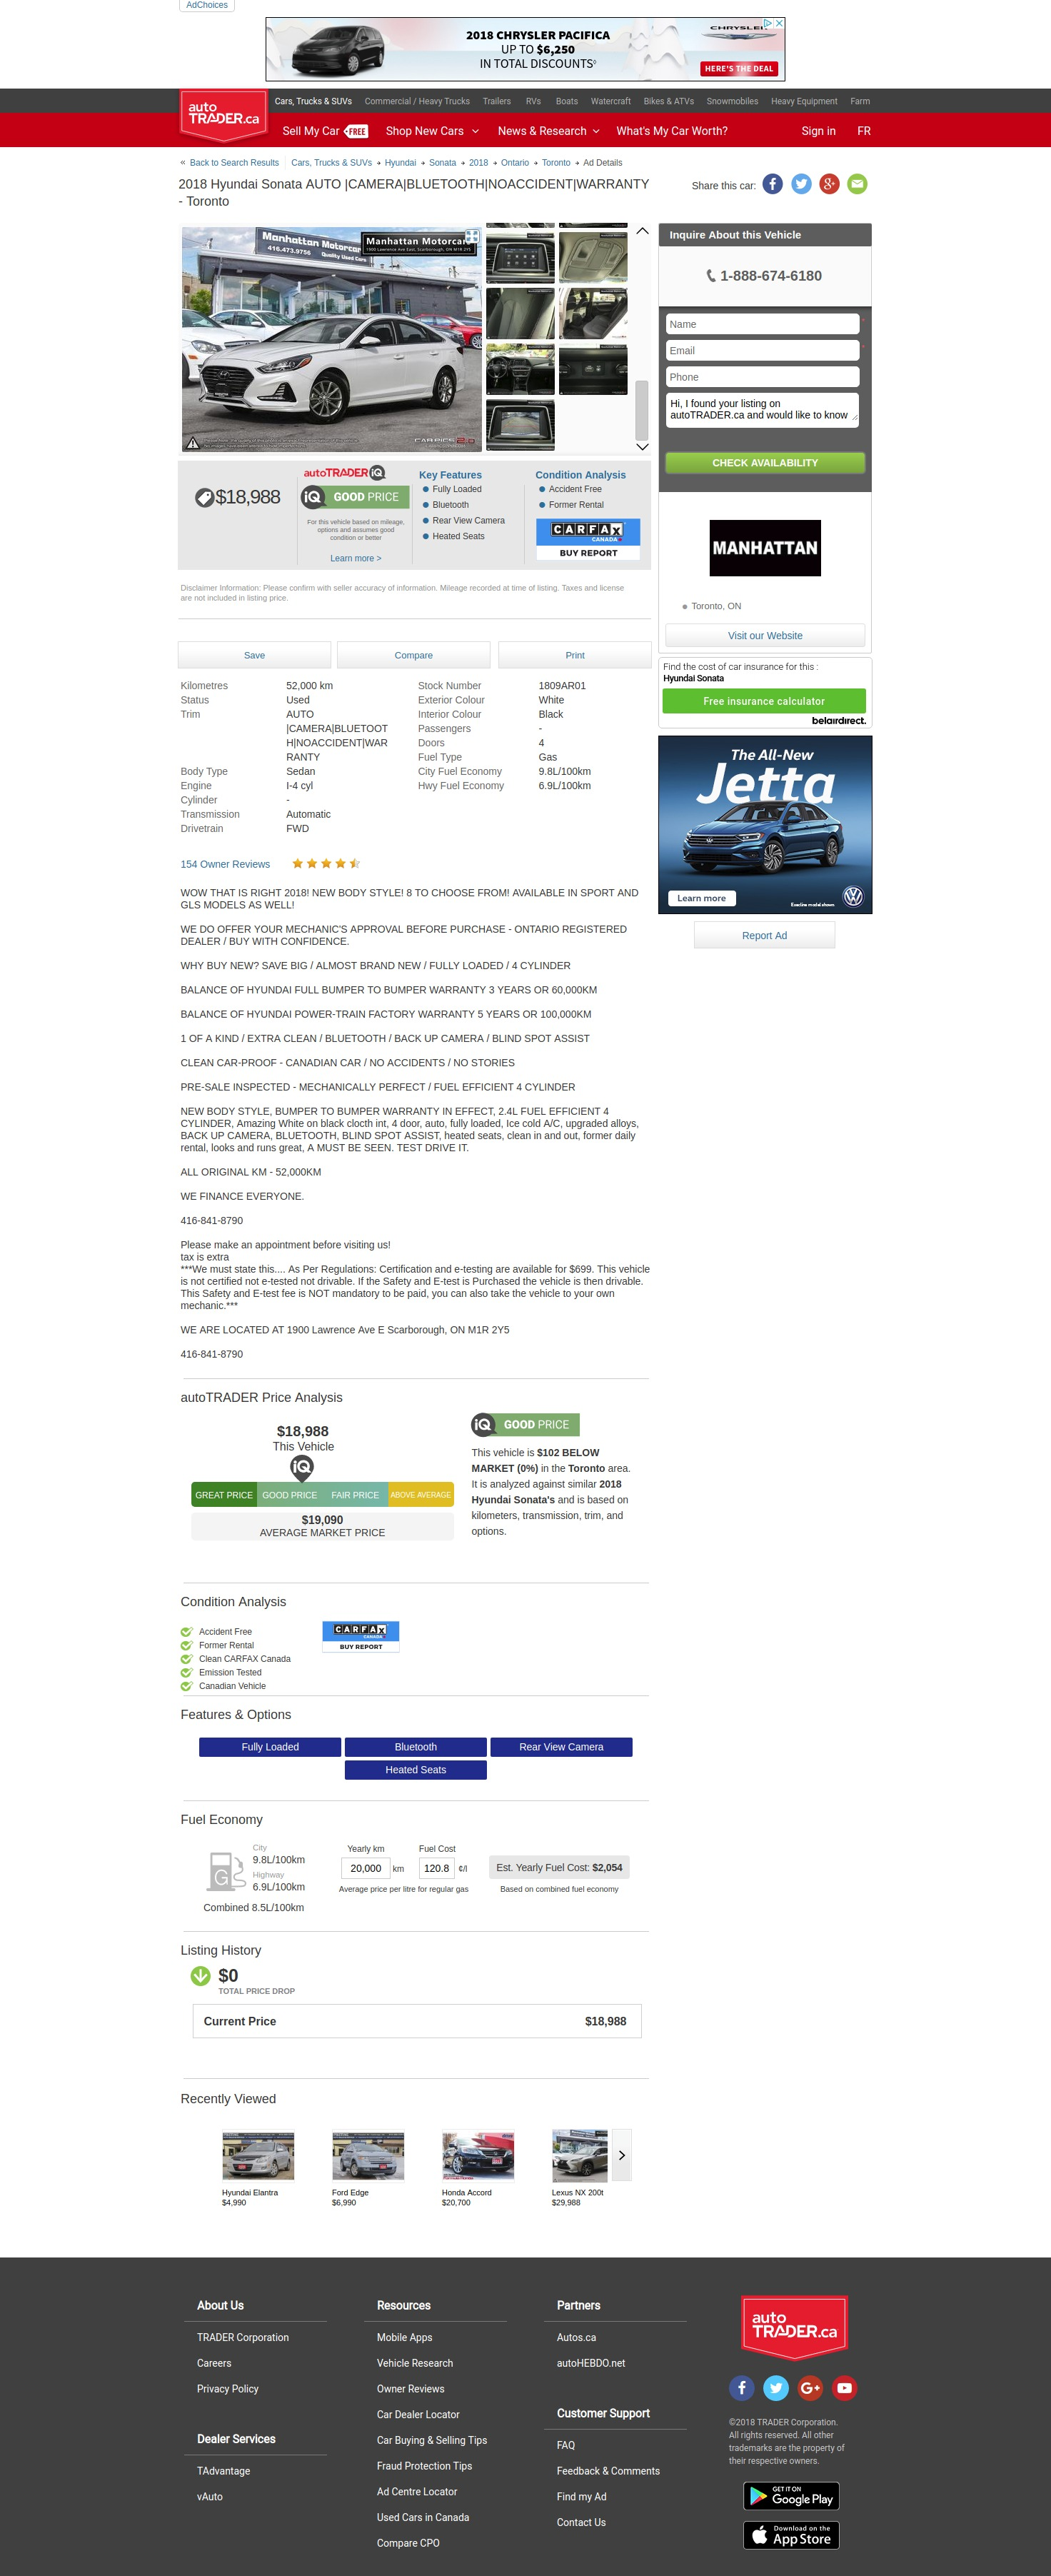car: (636, 442, 650, 453)
